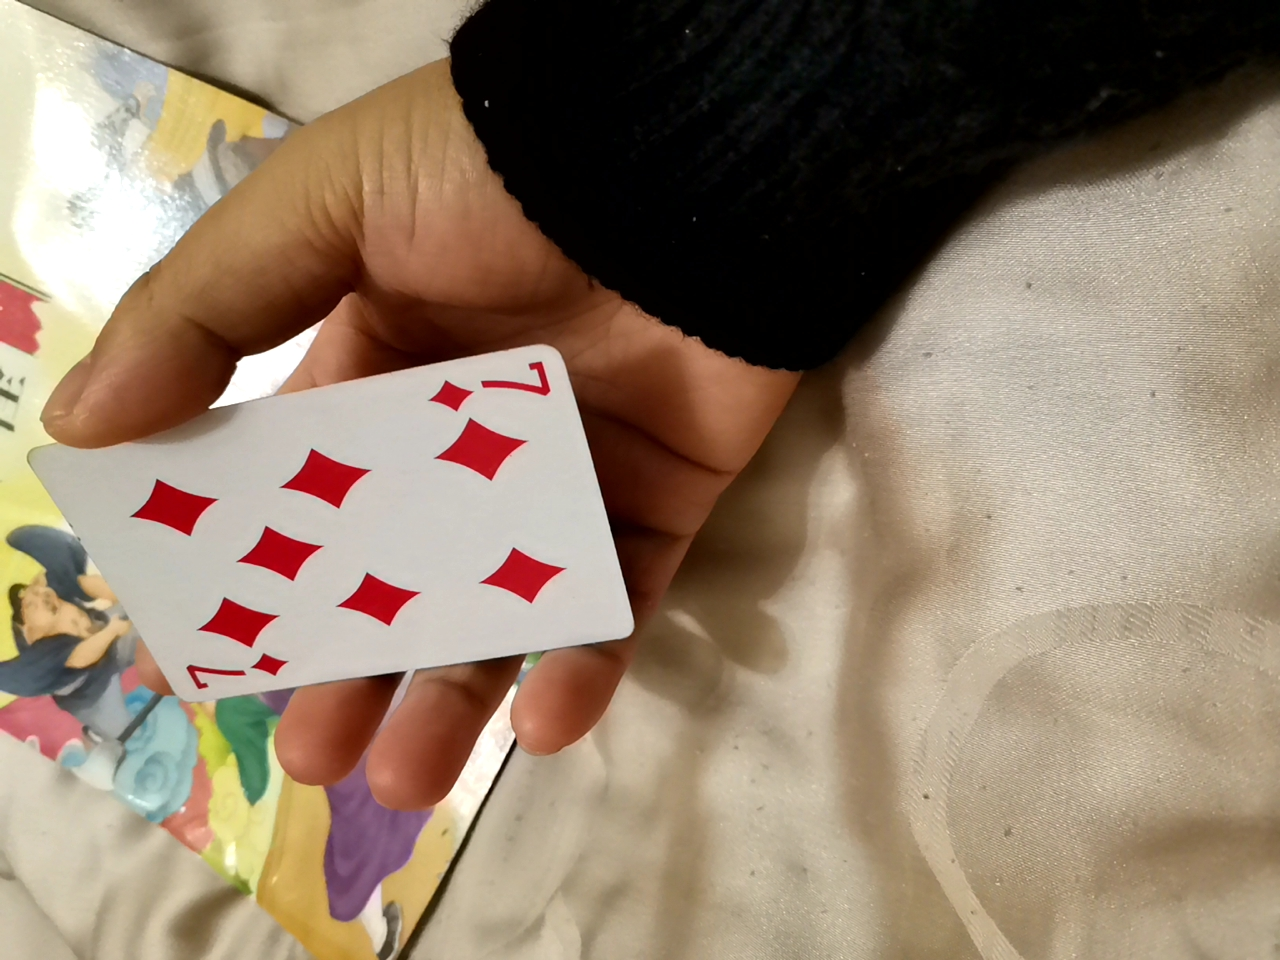fk 7: (48, 352, 628, 686)
